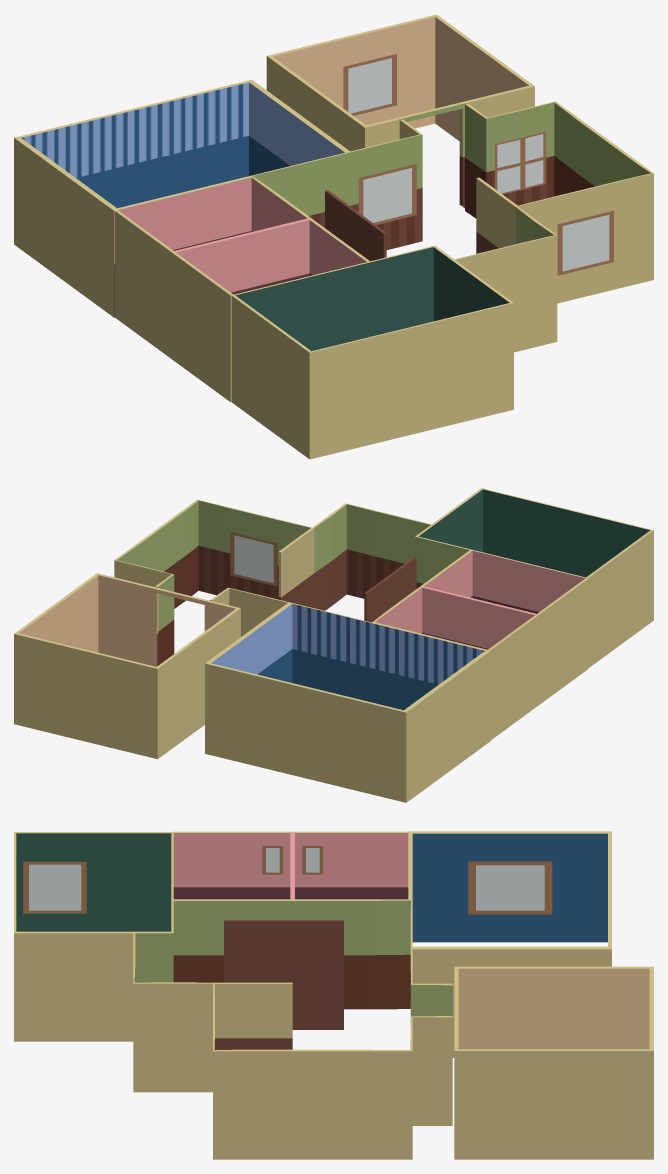
The model's file is N4_Paredes.fbx.
3 renders of one model, top to bottom at view 1: azimuth 30°, elevation 25°; view 2: azimuth 150°, elevation 25°; view 3: azimuth 270°, elevation 25°, orthographic. The views are drawn at different scales.
Visible parts, largest first — view 1: N4_Paredes; view 2: N4_Paredes; view 3: N4_Paredes.
Part boxes in pixels (box(x1,y1,x2,y2)): N4_Paredes: box(14, 14, 653, 459); N4_Paredes: box(14, 488, 653, 802); N4_Paredes: box(14, 831, 653, 1159).
Bounding box in the file's own units: 1304 × 300 × 1603.
Materials: 11 (11 with a texture image).
